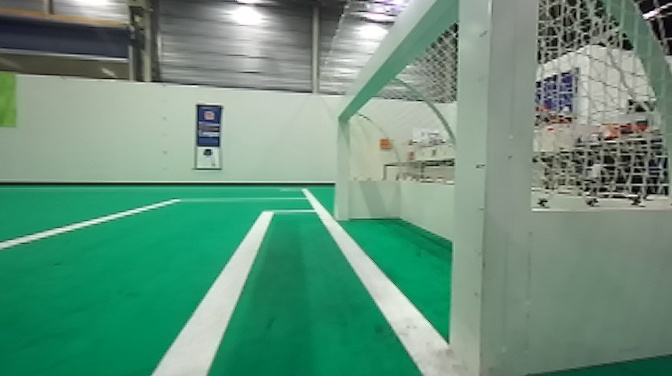goalpost: (451, 1, 531, 373), (332, 112, 359, 225)
